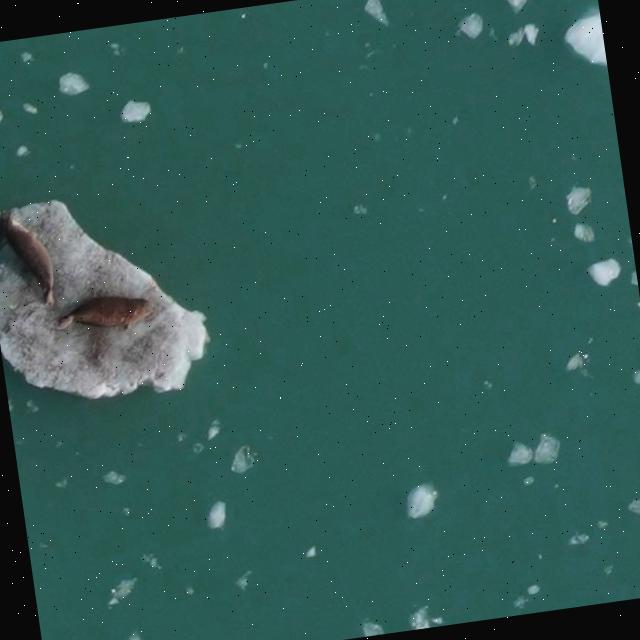seal: (1, 210, 56, 306), (54, 293, 155, 331)
